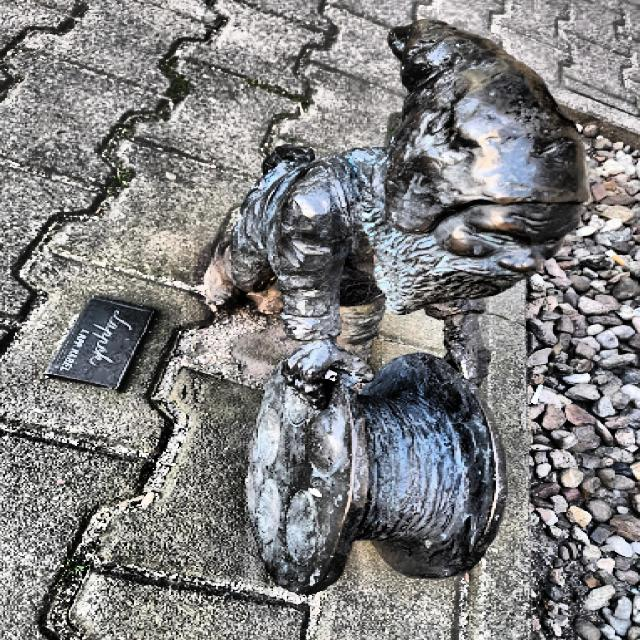Lappek: (205, 21, 587, 593)
